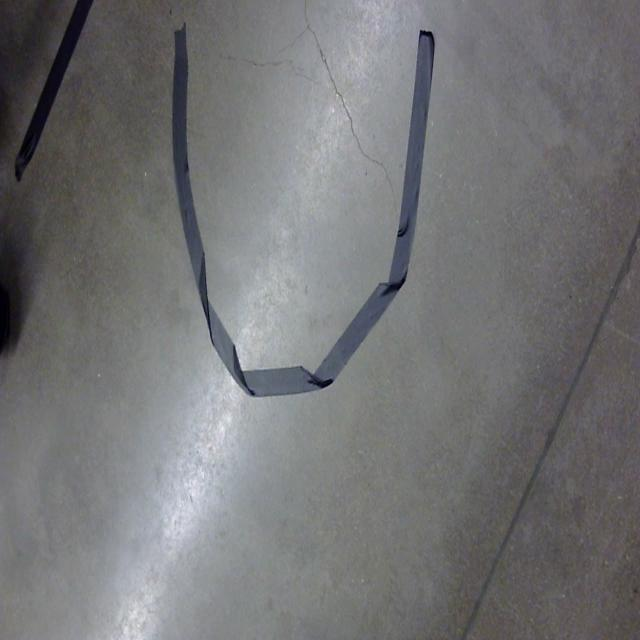tape: (166, 7, 444, 426), (9, 0, 111, 193)
